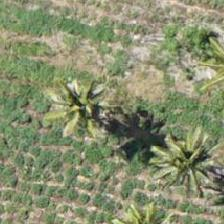coconut_tree: (125, 111, 215, 201), (25, 62, 115, 152)
